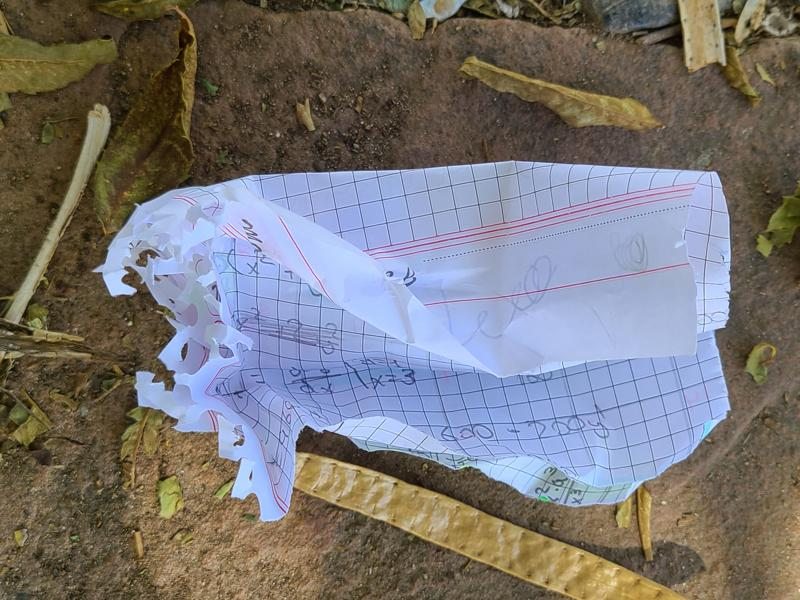papel: (96, 161, 739, 525)
